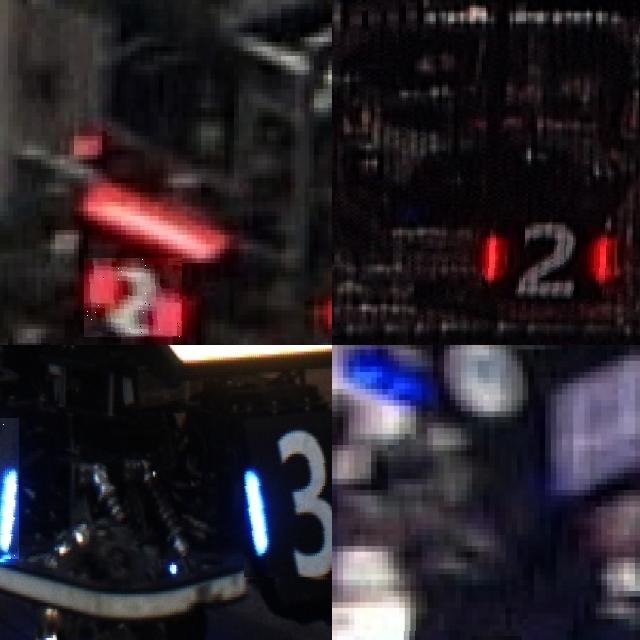B3: (244, 429, 332, 576)
R2: (485, 211, 611, 299), (84, 258, 182, 338)
